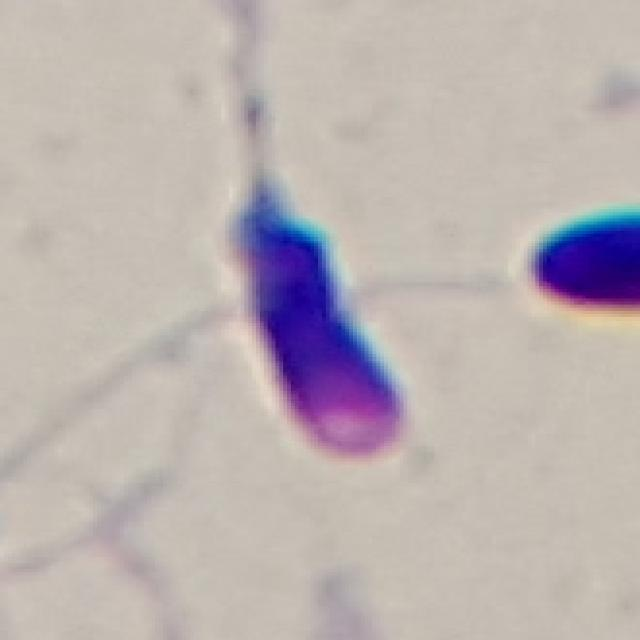abnormal sperm: (180, 49, 442, 473)
